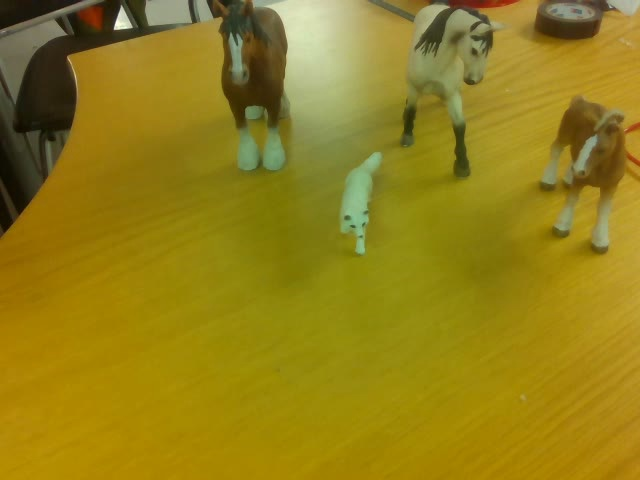toy: (397, 1, 507, 180), (540, 92, 628, 257), (212, 1, 288, 173), (338, 149, 383, 256)
